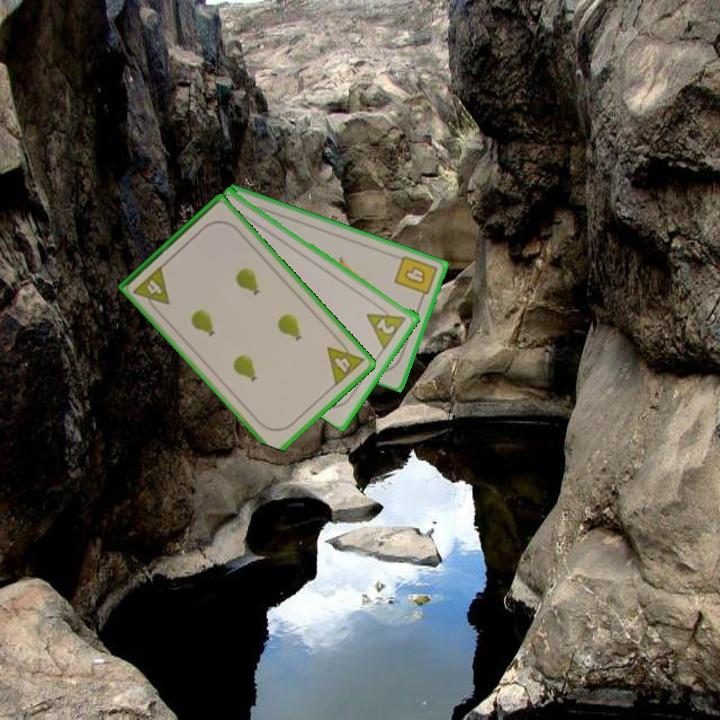2p: (363, 300, 409, 351)
4b: (391, 252, 440, 304)
4p: (323, 334, 367, 389), (130, 262, 173, 315)
